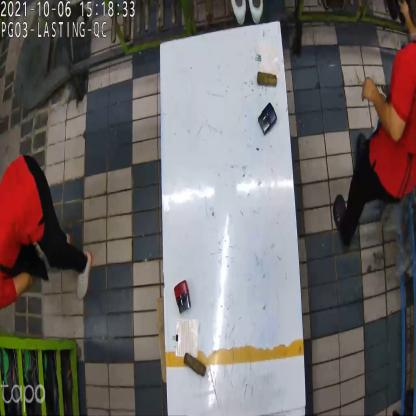stamp: (174, 281, 193, 317), (258, 102, 276, 137)
